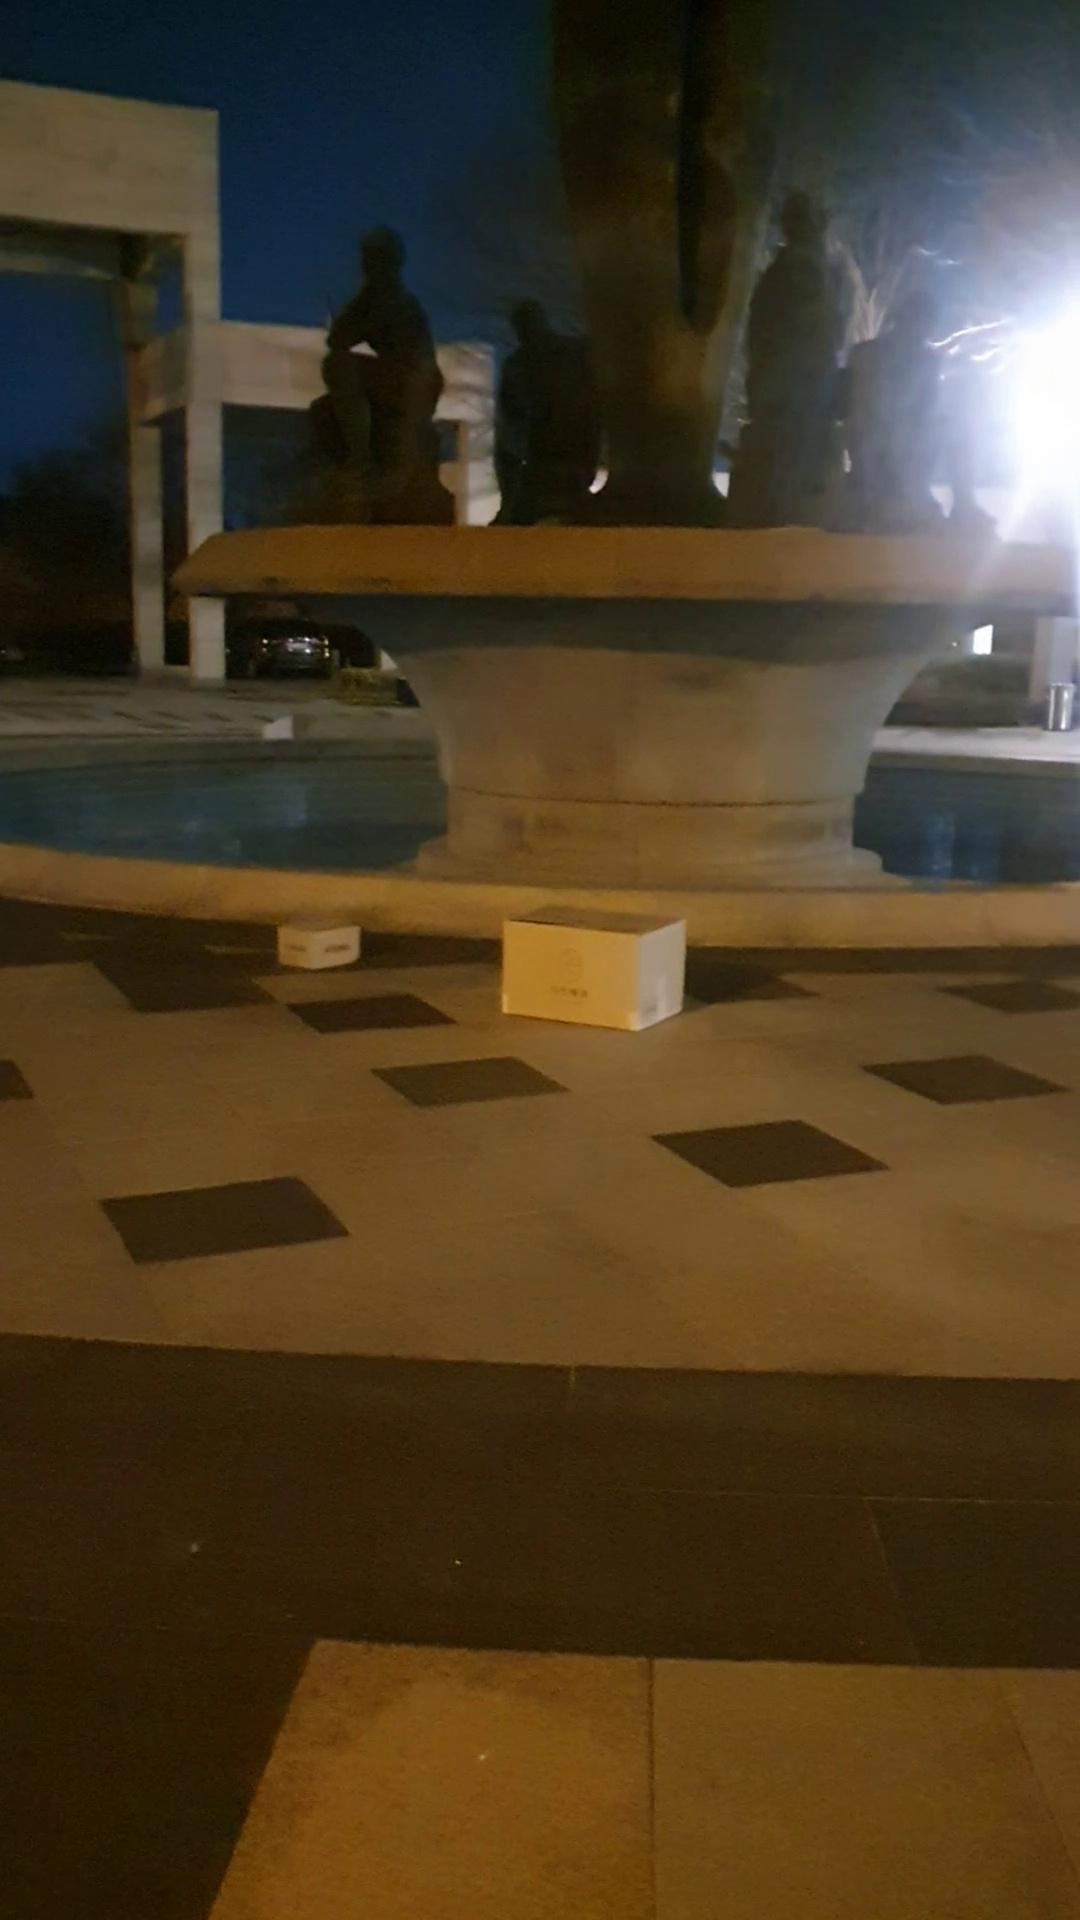Box: (493, 898, 707, 1030), (272, 915, 368, 967)
